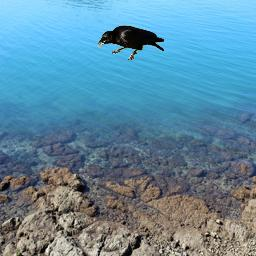Crow: (97, 25, 164, 60)
